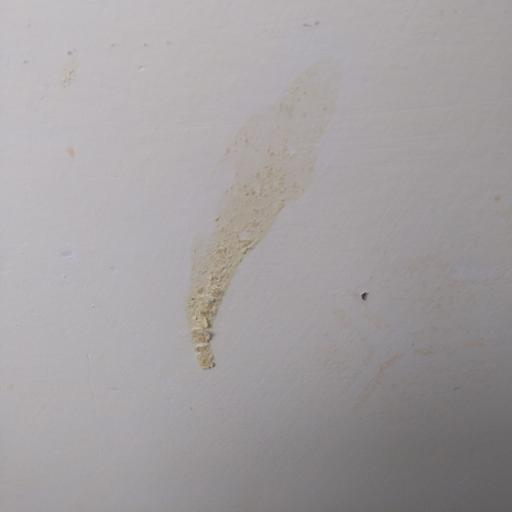stain: (151, 79, 342, 376), (373, 258, 512, 425), (46, 45, 99, 174), (361, 274, 386, 314)
